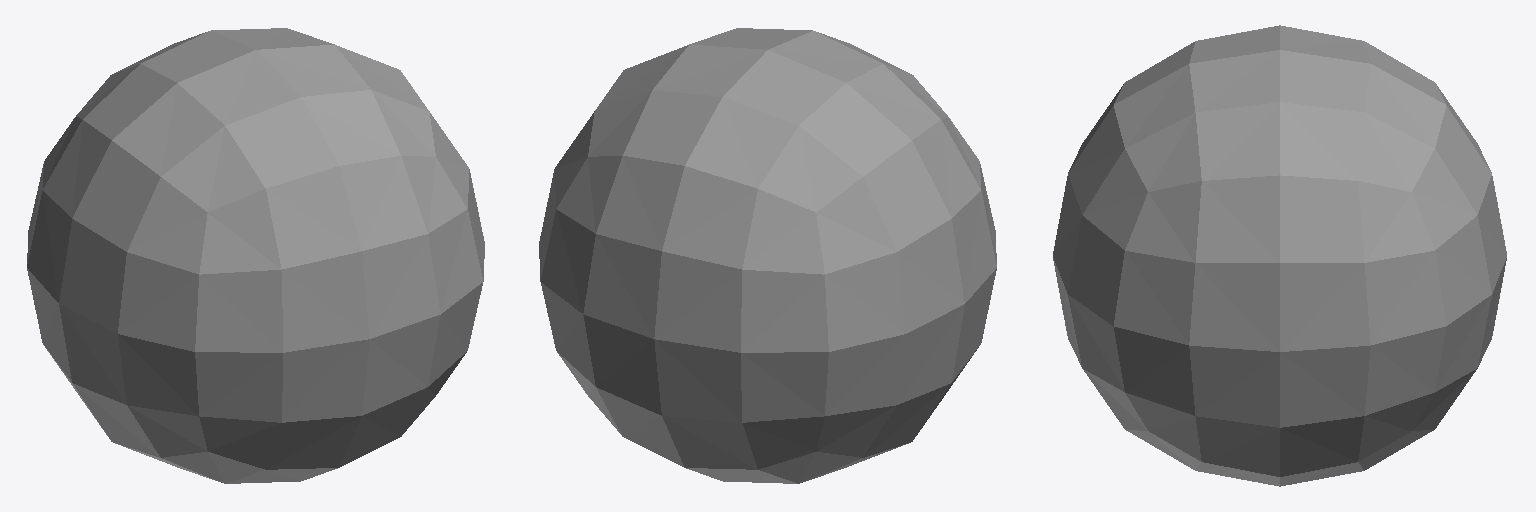
File: boulder.obj
The picture shows the model from 3 angles: view 1: azimuth 30°, elevation 25°; view 2: azimuth 150°, elevation 25°; view 3: azimuth 270°, elevation 25°; orthographic projection.
Parts seen in each view (by area): view 1: Cube; view 2: Cube; view 3: Cube.
Part boxes in pixels (bbox=[...]): Cube: bbox=[27, 28, 484, 483]; Cube: bbox=[539, 28, 996, 483]; Cube: bbox=[1053, 25, 1506, 486].
Size of the model in its own units: 1.76 by 1.76 by 1.76.